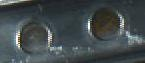joints: (14, 18, 55, 56), (85, 5, 127, 41)
